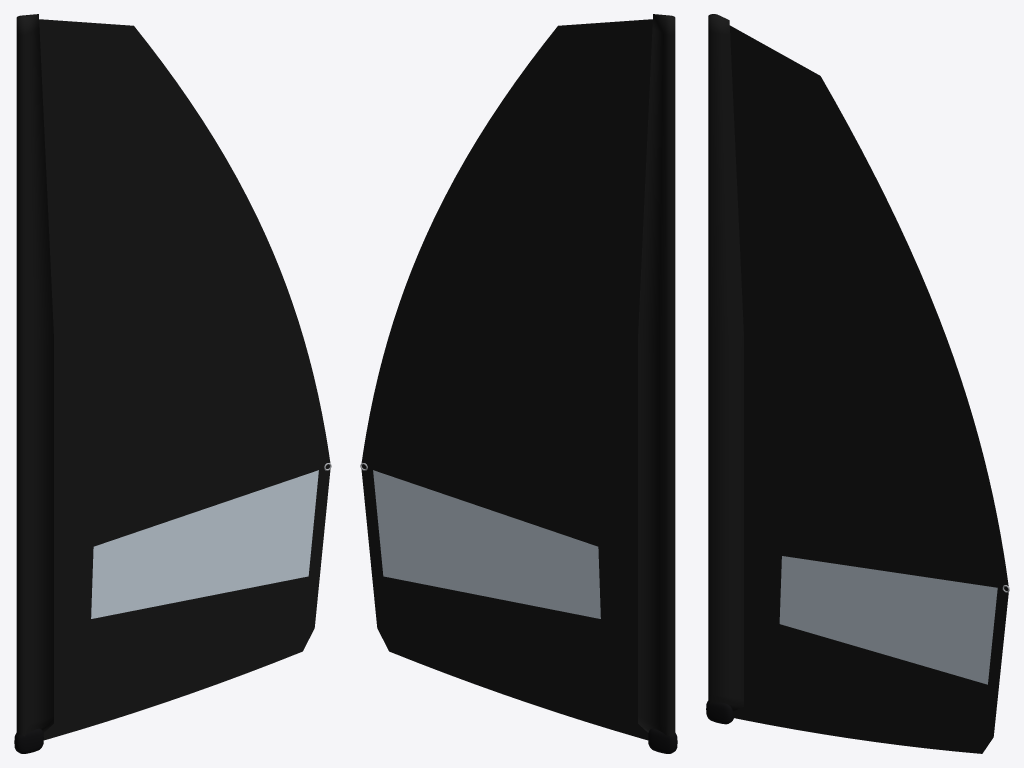
Rendered from nielstrots_slalom_7_4.glb.
The picture shows the model from 3 angles, left to right: view 1: azimuth 30°, elevation 25°; view 2: azimuth 150°, elevation 25°; view 3: azimuth 330°, elevation 25°; orthographic projection. The views are drawn at different scales.
Parts seen in each view (by area): view 1: SailCloth, TackFairing; view 2: SailCloth, TackFairing; view 3: SailCloth, TackFairing.
Part boxes in pixels (x1,y1,x2,y2): SailCloth: [16, 14, 330, 740]; TackFairing: [14, 728, 43, 753]; SailCloth: [361, 14, 675, 740]; TackFairing: [648, 728, 677, 753]; SailCloth: [708, 14, 1008, 753]; TackFairing: [706, 701, 733, 724].
Size of the model in its own units: 2.11 by 4.71 by 0.08.
